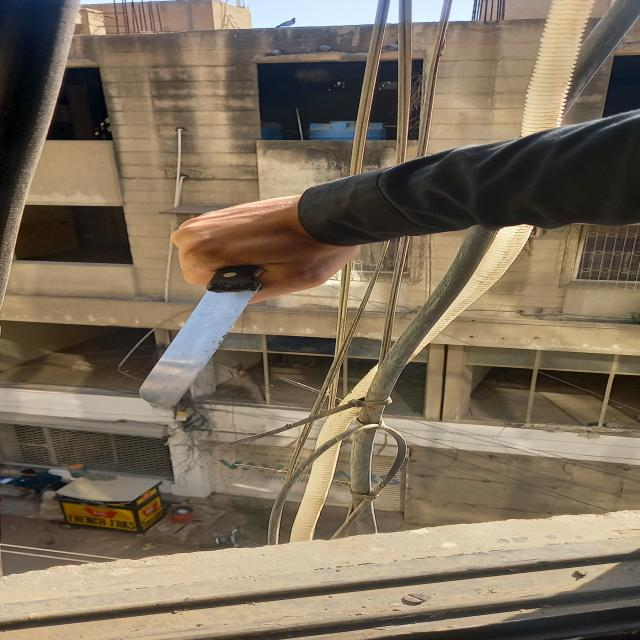Knife: (128, 222, 276, 412)
